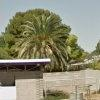Palm tree: (9, 5, 71, 63)
